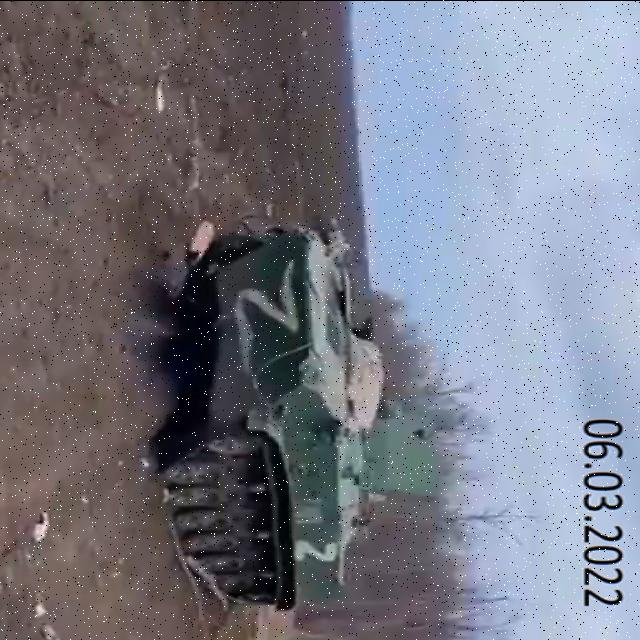APC-IFV: (147, 215, 429, 614)
